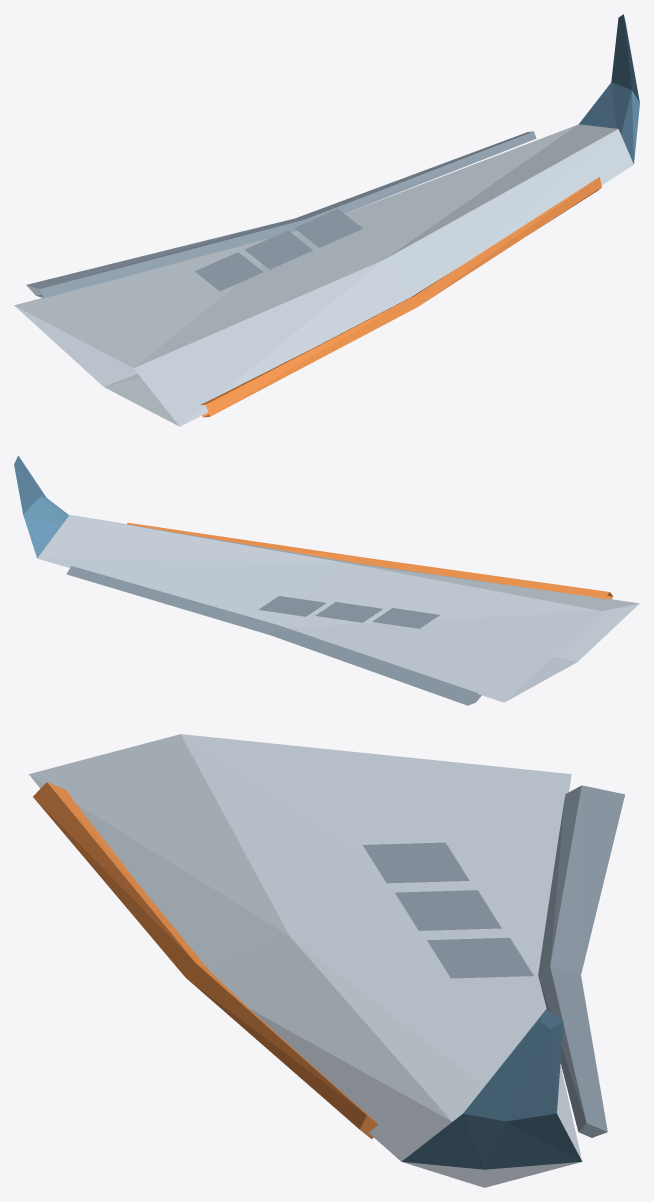
File: slat.glb
The picture shows the model from 3 angles, top to bottom: view 1: azimuth 30°, elevation 25°; view 2: azimuth 150°, elevation 25°; view 3: azimuth 270°, elevation 25°; orthographic projection. The views are drawn at different scales.
Size of the model in its own units: 8.48 by 2.23 by 4.45.
